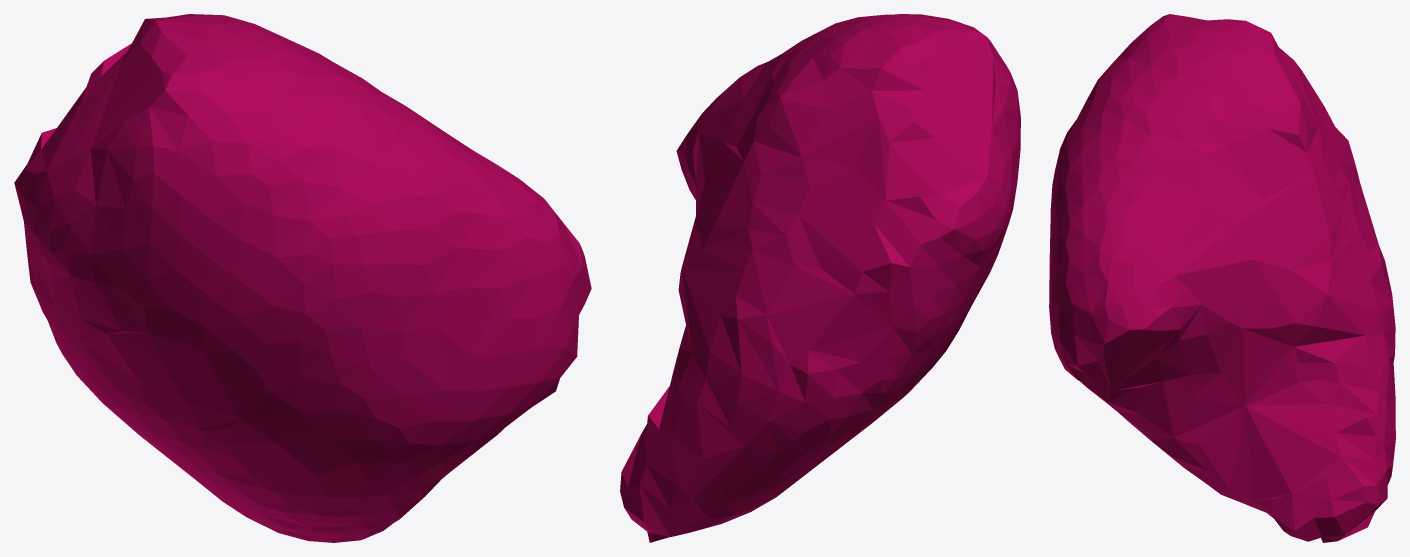
Rendered from Model_10556_LH__External_cuneate_nucleus_(ECu).obj.
The picture shows the model from 3 angles, left to right: view 1: azimuth 30°, elevation 25°; view 2: azimuth 150°, elevation 25°; view 3: azimuth 270°, elevation 25°; orthographic projection. The views are drawn at different scales.
Size of the model in its own units: 1.24 by 1.54 by 1.11.
